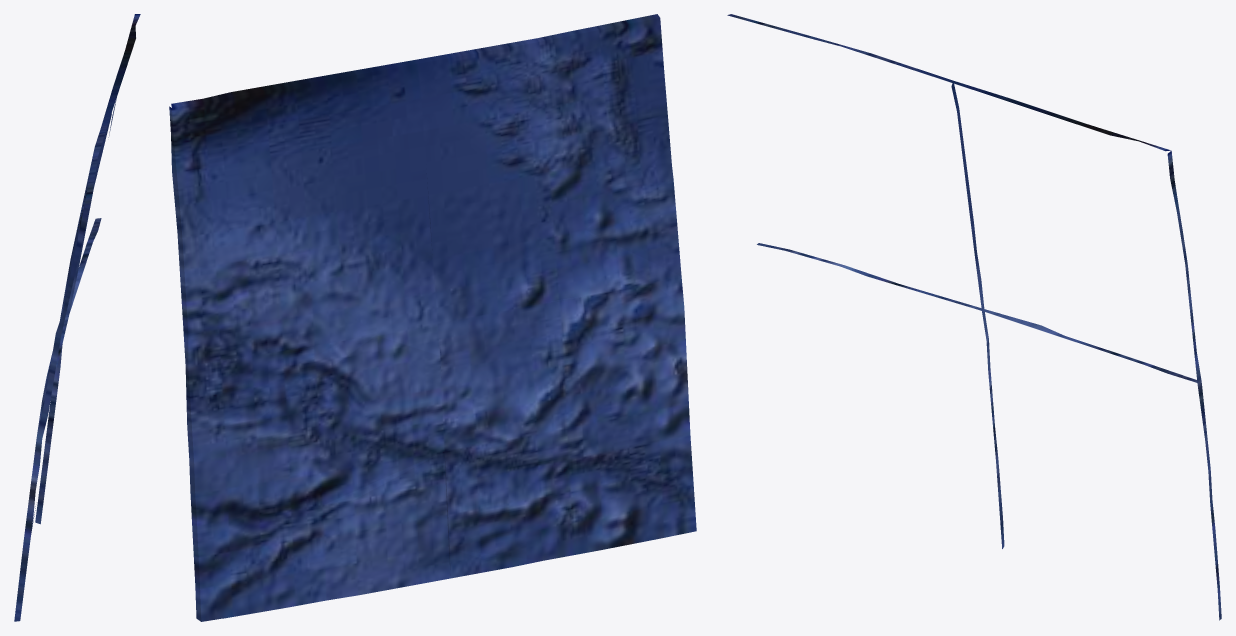
The picture shows the model from 3 angles, left to right: view 1: azimuth 30°, elevation 25°; view 2: azimuth 150°, elevation 25°; view 3: azimuth 270°, elevation 25°; orthographic projection. The views are drawn at different scales.
Size of the model in its own units: 450996 by 622988 by 561219.
Materials: 1 (1 with a texture image).
